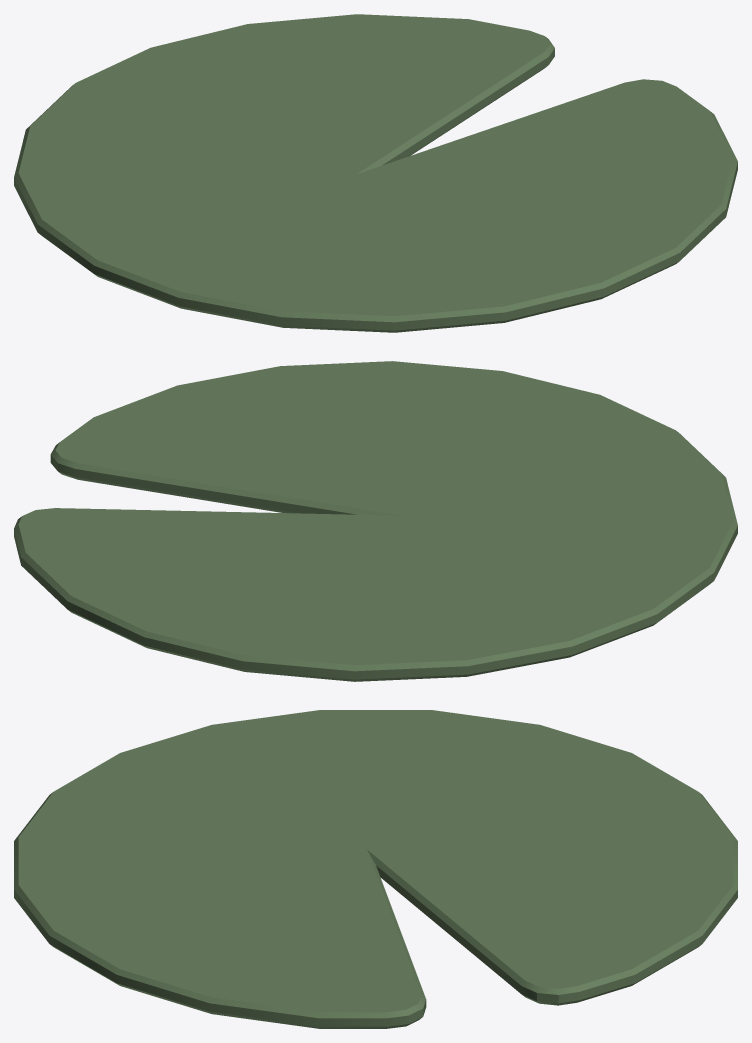
File: lilyfix1.fbx
The picture shows the model from 3 angles, top to bottom: view 1: azimuth 30°, elevation 25°; view 2: azimuth 150°, elevation 25°; view 3: azimuth 270°, elevation 25°; orthographic projection.
Visible parts, largest first — view 1: pDisc1; view 2: pDisc1; view 3: pDisc1.
Boxes of the visible parts, box(x1,y1,x2,y2) form: pDisc1: box(14, 14, 737, 332); pDisc1: box(14, 361, 737, 681); pDisc1: box(14, 710, 737, 1028).
Bounding box in the file's own units: 70.02 × 1.78 × 70.02.
